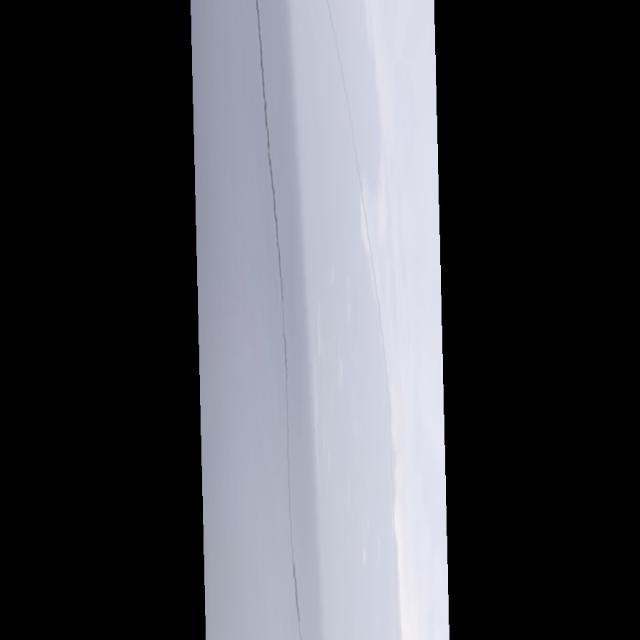crack: (242, 25, 302, 639)
